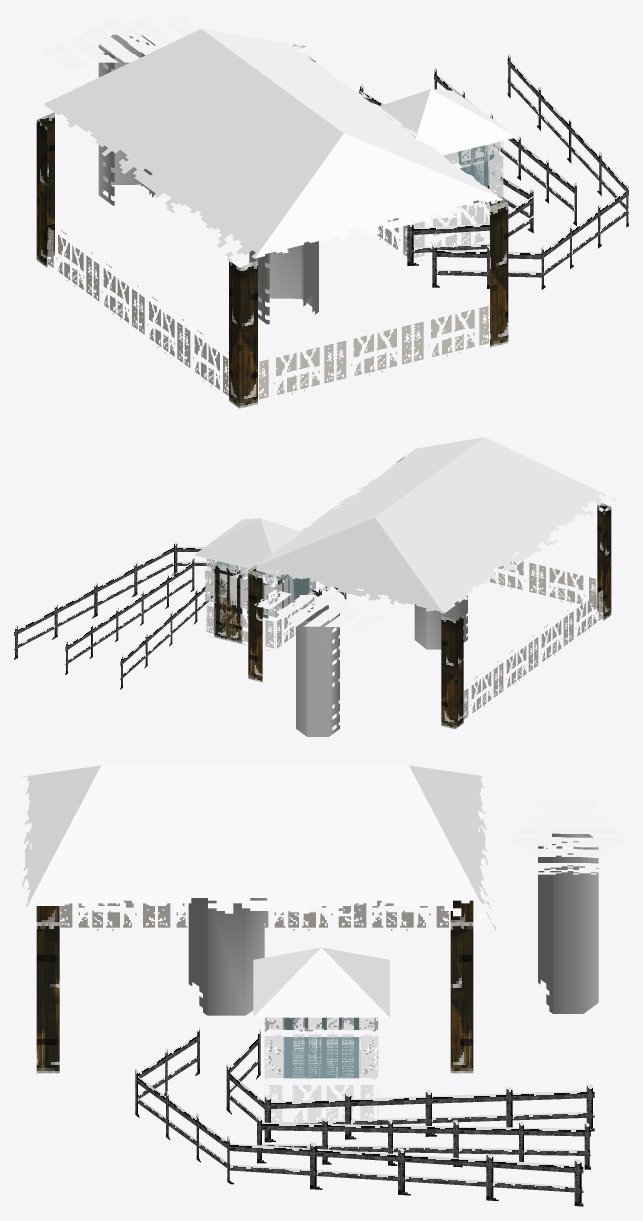
Rendered from uvmd-0200.glb.
The picture shows the model from 3 angles, top to bottom: view 1: azimuth 30°, elevation 25°; view 2: azimuth 150°, elevation 25°; view 3: azimuth 270°, elevation 25°; orthographic projection. The views are drawn at different scales.
Visible parts, largest first — view 1: uvmd-0200; view 2: uvmd-0200; view 3: uvmd-0200.
Part boxes in pixels (<box>): uvmd-0200: <box>36,15,628,408</box>; uvmd-0200: <box>14,437,617,736</box>; uvmd-0200: <box>21,765,628,1206</box>.
Bounding box in the file's own units: 175 × 69 × 162.
7 materials, 7 textured.
